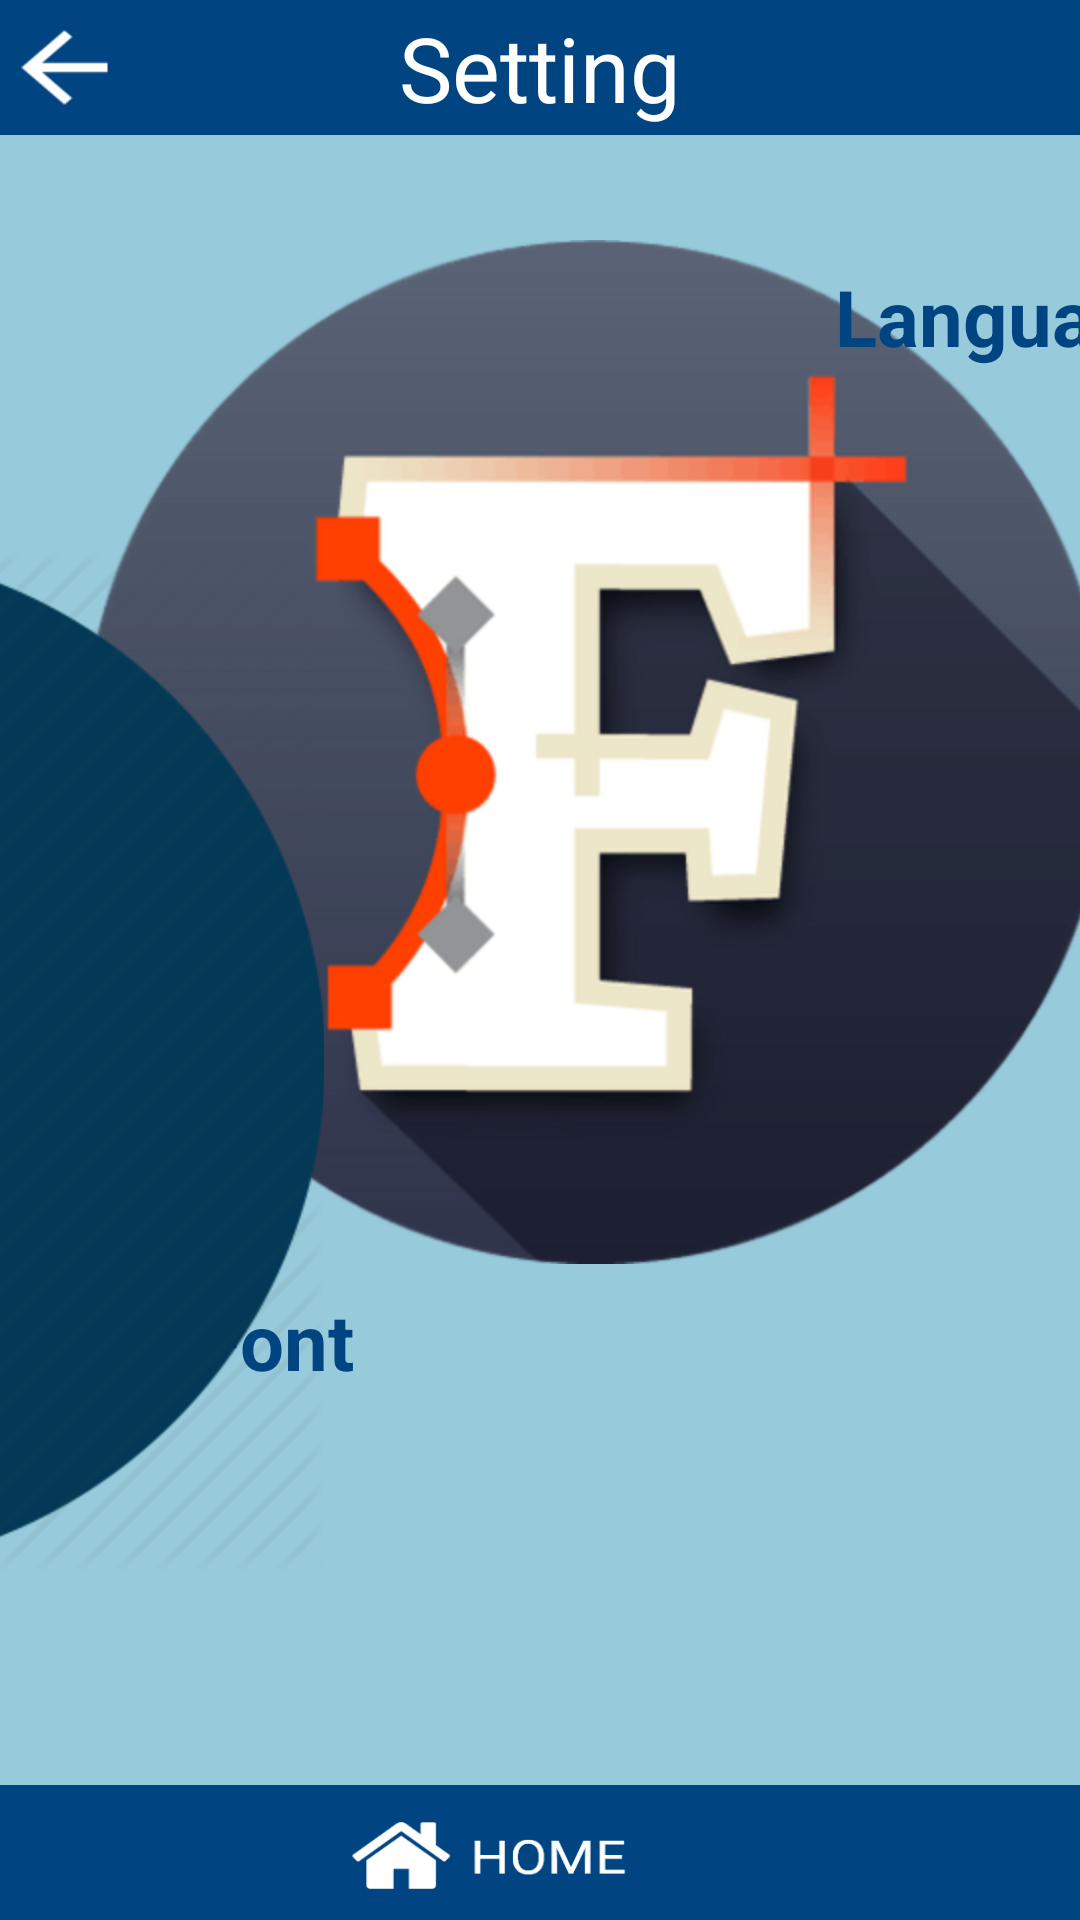

Locate icon controls on the screen. Image size 1080 x 1920, boxes as (x1, y1, x2, y2).
back: (21, 30, 108, 105)
